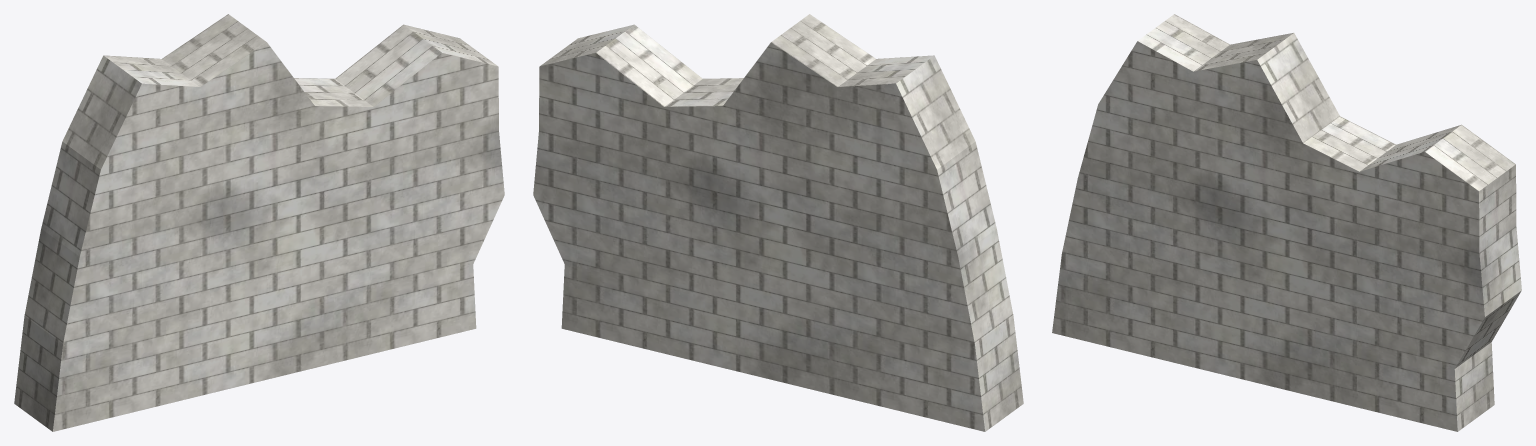
The model's file is debris_nyc_glazed_brick.glb.
3 renders of one model, left to right at view 1: azimuth 30°, elevation 25°; view 2: azimuth 150°, elevation 25°; view 3: azimuth 330°, elevation 25°, orthographic. The views are drawn at different scales.
Parts seen in each view (by area): view 1: debris_nyc_glazed_brick; view 2: debris_nyc_glazed_brick; view 3: debris_nyc_glazed_brick.
Boxes of the visible parts, x1=… form: debris_nyc_glazed_brick: x1=14, y1=14, x2=504, y2=431; debris_nyc_glazed_brick: x1=533, y1=14, x2=1023, y2=431; debris_nyc_glazed_brick: x1=1052, y1=14, x2=1521, y2=431.
Size of the model in its own units: 2.03 by 1.45 by 0.3.
1 material, 1 textured.
